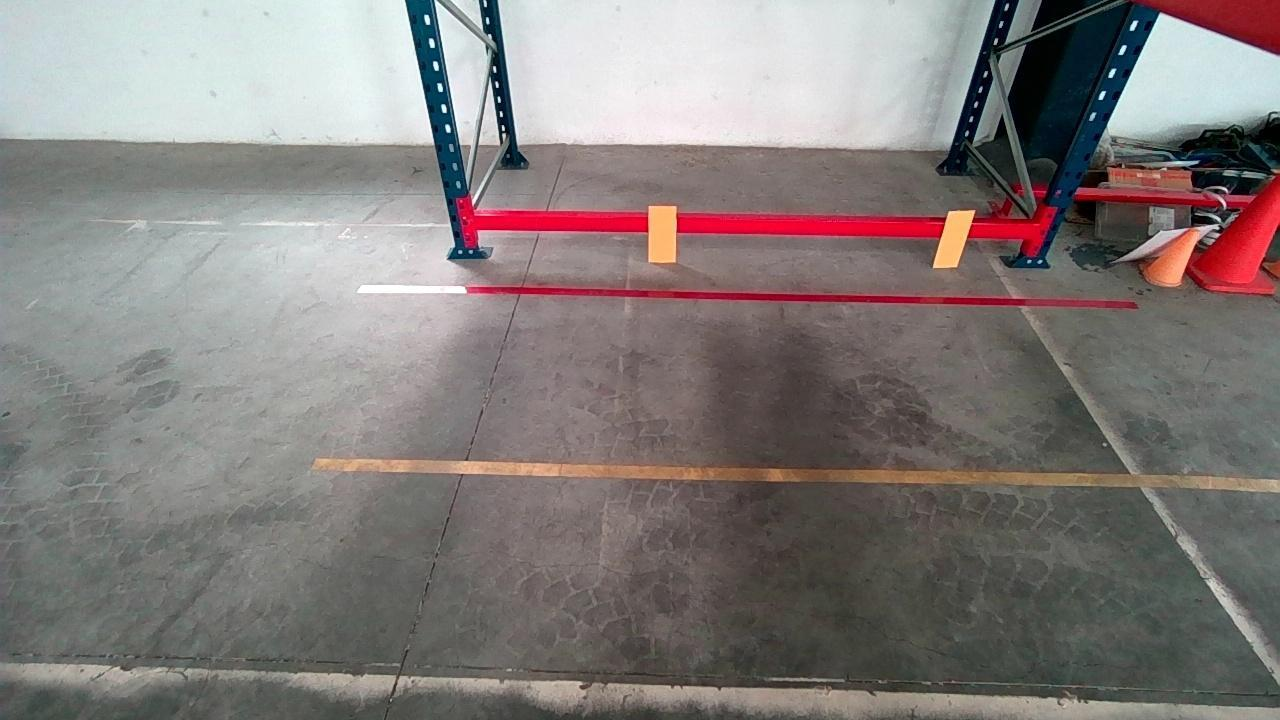h_rack: (473, 211, 1031, 239)
orange_strip: (934, 210, 975, 267), (648, 204, 677, 262)
red_line: (376, 278, 1129, 312)
yellow_line: (328, 449, 1272, 498)
